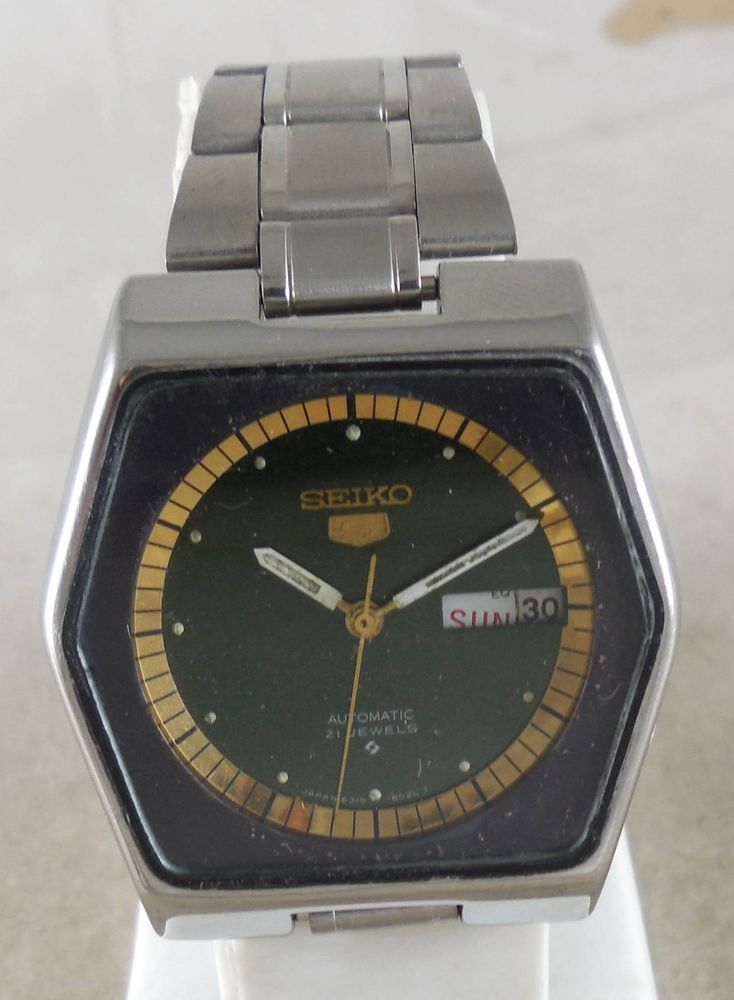clock: (135, 394, 599, 843)
